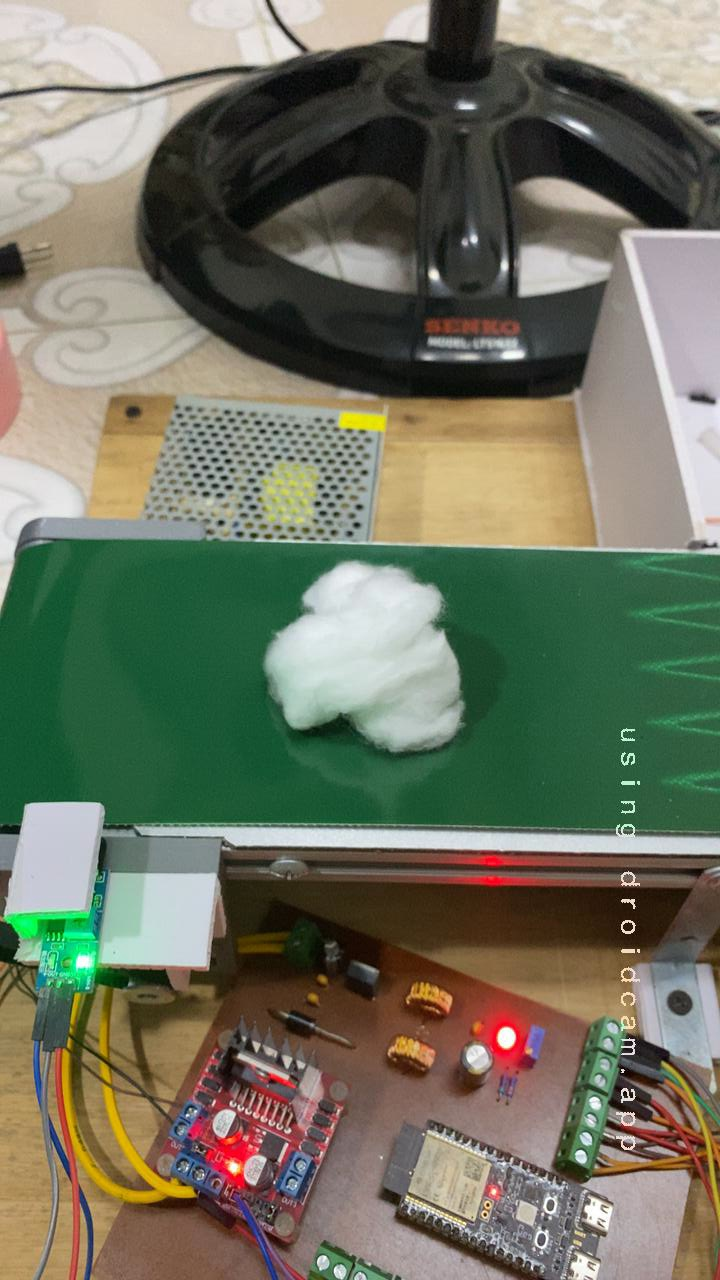cotton: (231, 551, 494, 776)
